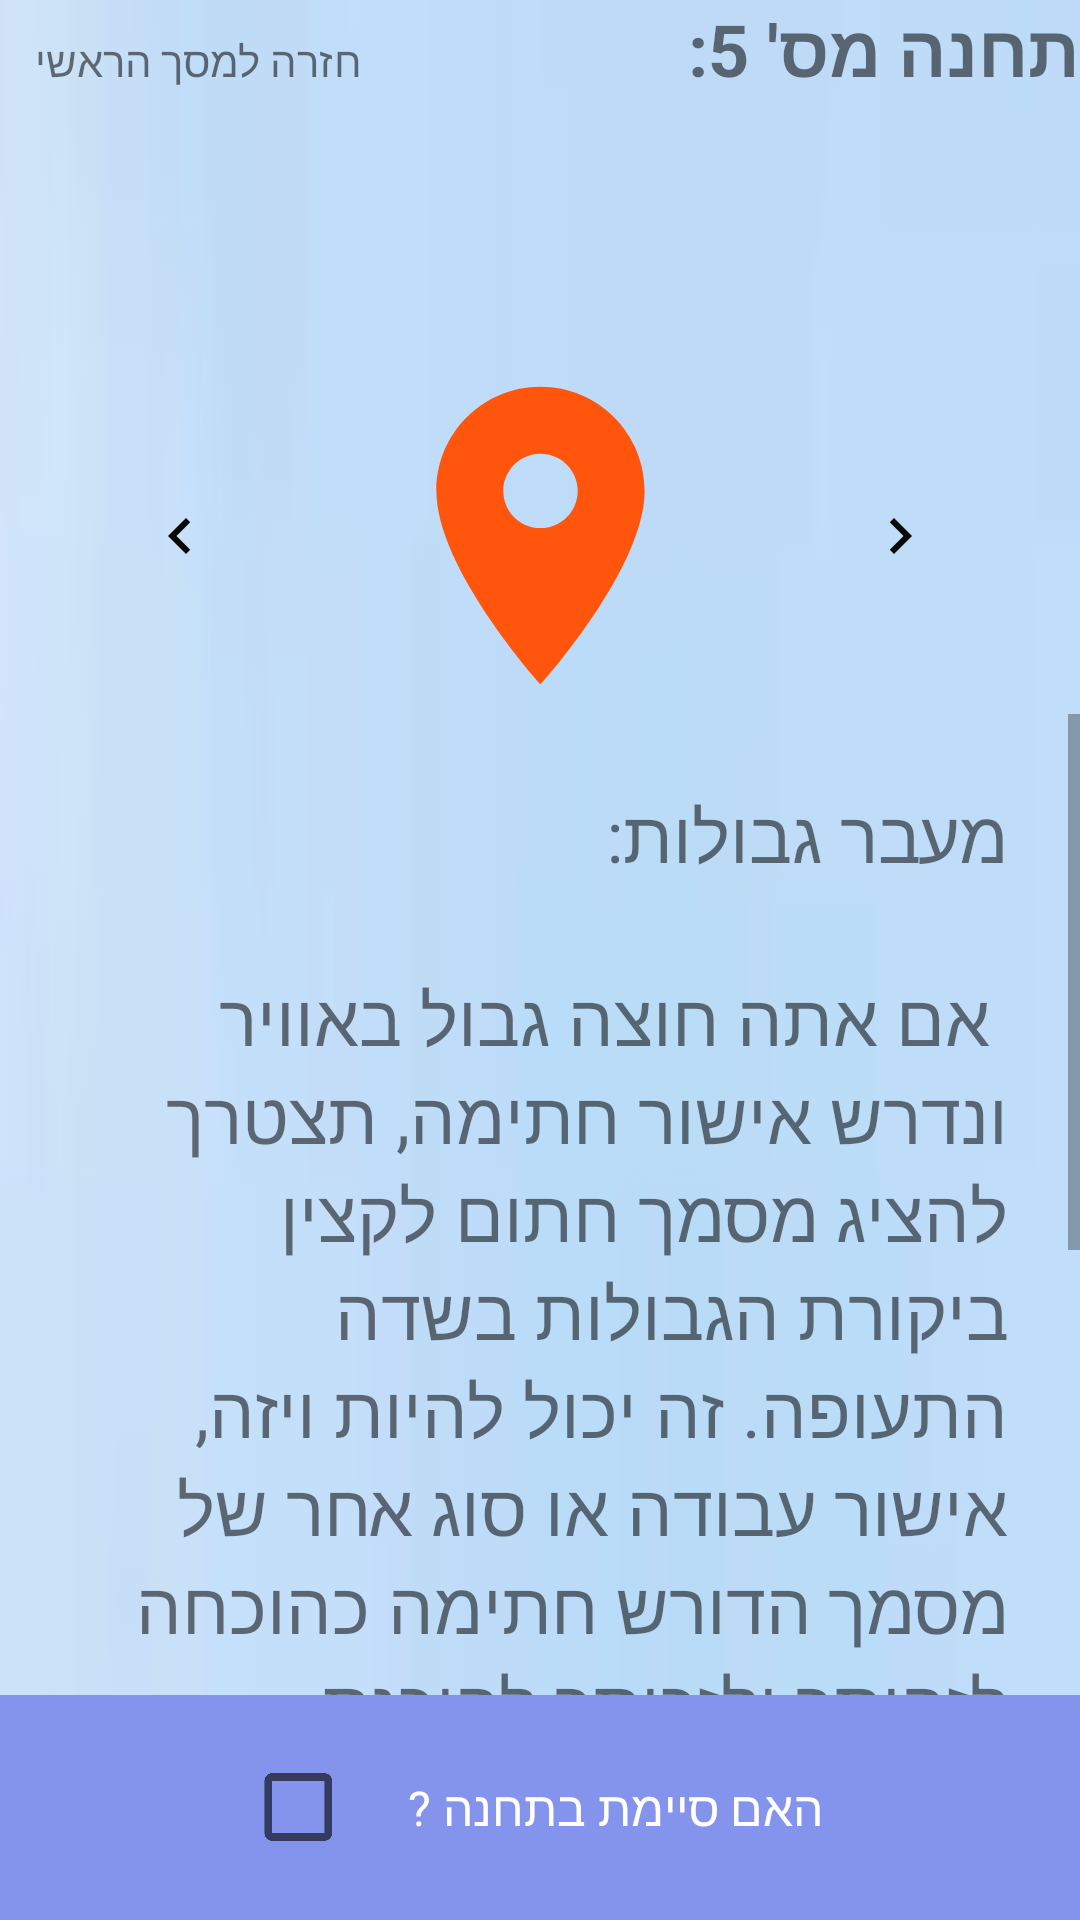

Named icons in this screenshot (1080 × 1920) and their bounding boxes, (x1, y1, x2, y2):
loc: (436, 386, 645, 684)
navnext: (890, 518, 912, 554)
negb: (168, 518, 190, 554)
